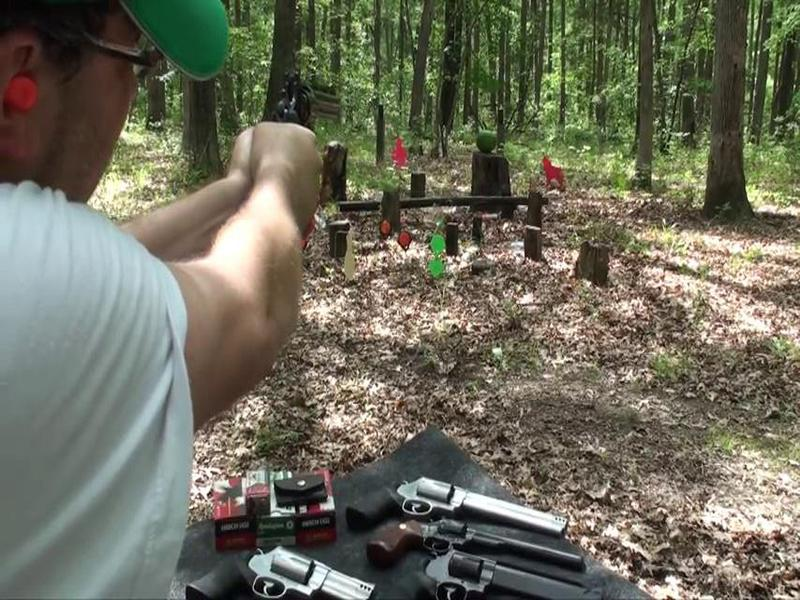Revolver: (257, 59, 354, 156)
